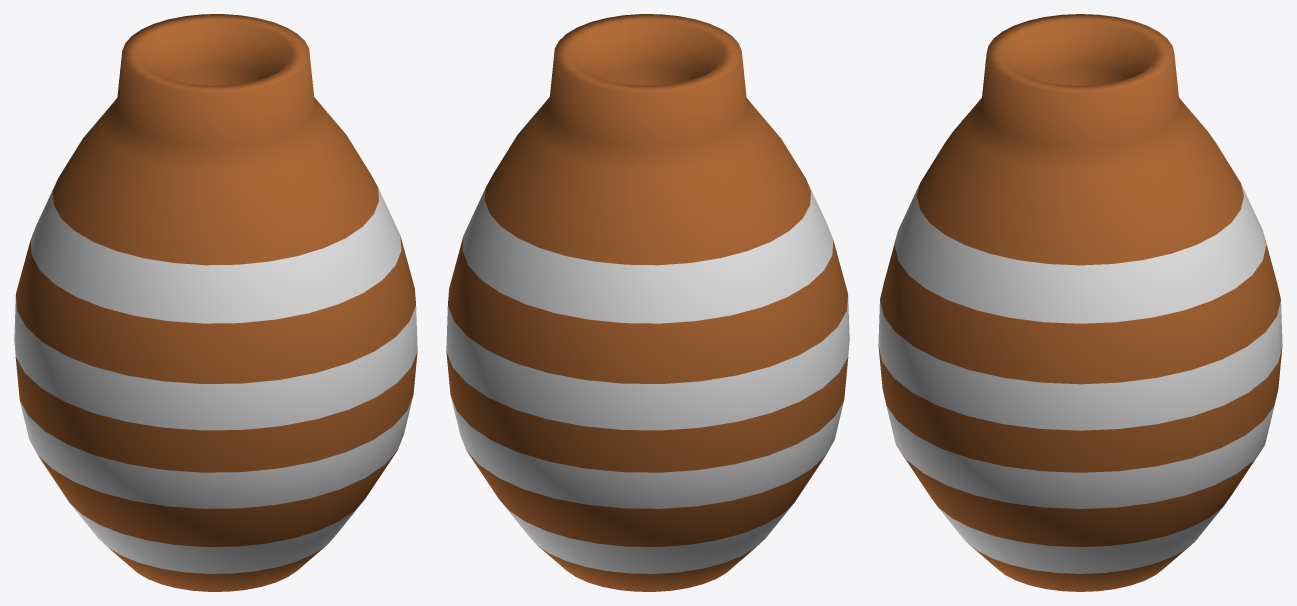
The model's file is Vase.fbx.
3 renders of one model, left to right at view 1: azimuth 30°, elevation 25°; view 2: azimuth 150°, elevation 25°; view 3: azimuth 270°, elevation 25°, orthographic.
Parts seen in each view (by area): view 1: Cylinder; view 2: Cylinder; view 3: Cylinder.
Part boxes in pixels (box(x1,y1,x2,y2)): Cylinder: box(14, 14, 417, 591); Cylinder: box(446, 14, 849, 591); Cylinder: box(878, 14, 1282, 591).
Size of the model in its own units: 201 by 277 by 201.
